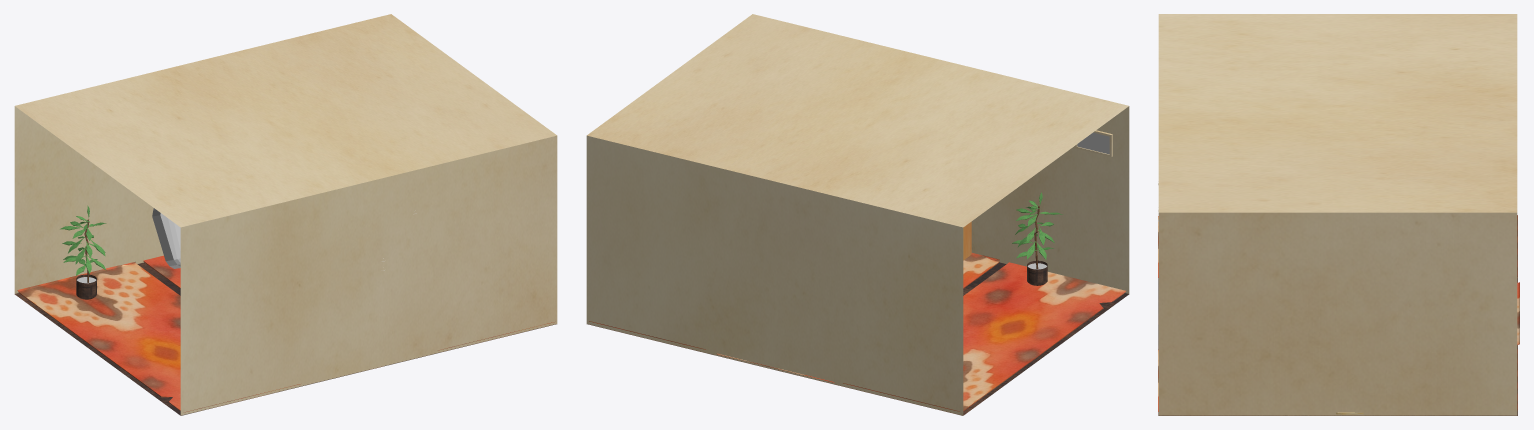
The model's file is living-room.fbx.
3 renders of one model, left to right at view 1: azimuth 30°, elevation 25°; view 2: azimuth 150°, elevation 25°; view 3: azimuth 270°, elevation 25°, orthographic. The views are drawn at different scales.
Visible parts, largest first — view 1: walls, carpet, floor, poshti pillow, carpet.001; view 2: walls, carpet, floor, carpet.001; view 3: walls, floor.
Part boxes in pixels (box(x1,y1,x2,y2)): walls: box(14, 14, 557, 415); carpet: box(17, 262, 300, 412); floor: box(14, 262, 556, 415); poshti pillow: box(152, 208, 180, 268); carpet.001: box(143, 255, 180, 288); walls: box(586, 14, 1129, 415); carpet: box(843, 262, 1125, 411); floor: box(587, 262, 1129, 415); carpet.001: box(716, 253, 999, 382); walls: box(1158, 14, 1517, 415); floor: box(1158, 277, 1517, 415).
Size of the model in its own units: 4212 by 2007 by 3235.
